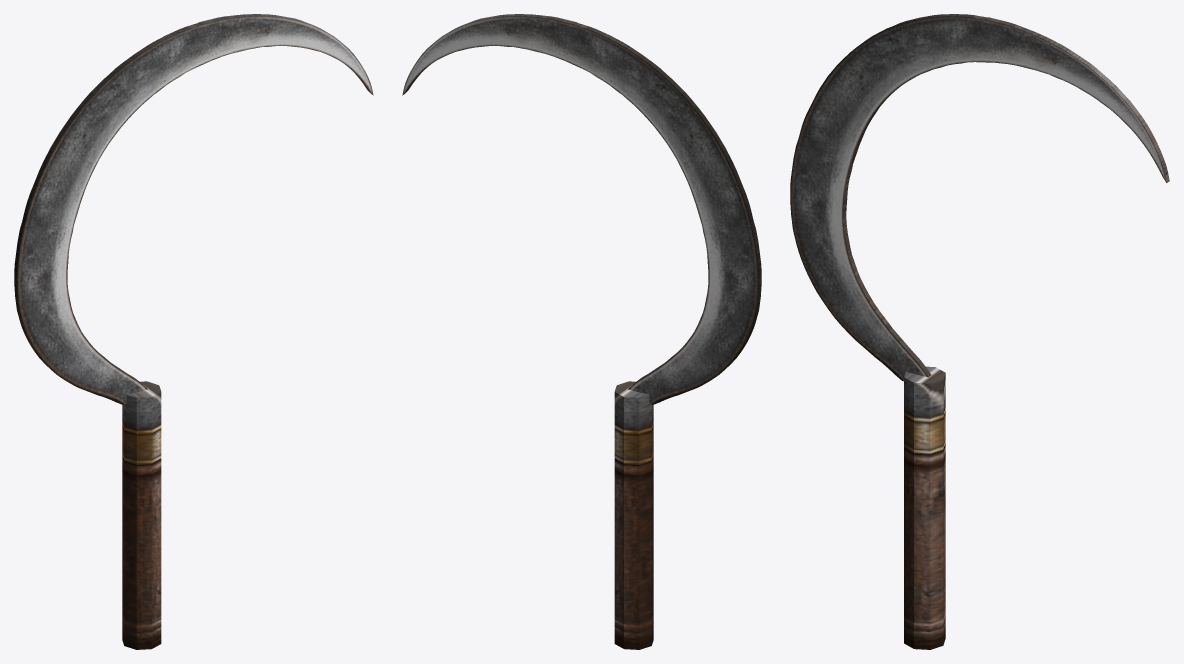
Rendered from mm7_m442_sickle.glb.
The picture shows the model from 3 angles, left to right: view 1: azimuth 30°, elevation 25°; view 2: azimuth 150°, elevation 25°; view 3: azimuth 330°, elevation 25°; orthographic projection. The views are drawn at different scales.
Visible parts, largest first — view 1: Sword; view 2: Sword; view 3: Sword.
Boxes of the visible parts, bbox=[...] form: Sword: bbox=[14, 14, 373, 649]; Sword: bbox=[402, 14, 761, 649]; Sword: bbox=[790, 14, 1169, 649].
Bounding box in the file's own units: 0.284 × 0.46 × 0.028.
1 material, 1 textured.
